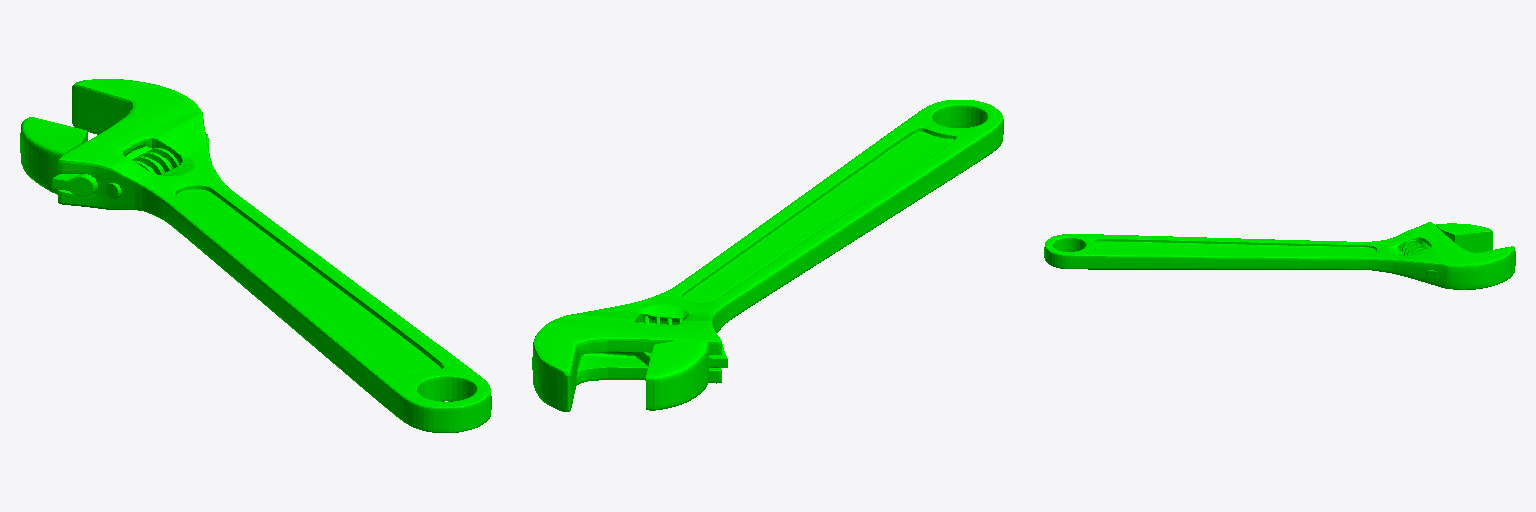
The robot description file, URDF, robot "block":

    <robot name="block">
      <link name="block_base_link">
        <inertial>
            <origin rpy="0 0 0" xyz="0 0 0"/>
            <mass value="0.1"/>
            <inertia ixx="0.1" ixy="0" ixz="0" iyy="0.1" iyz="0" izz="0.1"/>
        </inertial>
        
        <visual>
          <origin rpy="0 0 0" xyz="0 0 0"/>
          <geometry>
            <mesh filename="dataset/toolbox_cad/tn/plier/14_raw.obj" scale="1 1 1"/>
          </geometry>
            <material name="0_1_0_1">
                <color rgba="0 1 0 1"/>
            </material>
        </visual>

        
        <collision>
          <origin rpy="0 0 0" xyz="0 0 0"/>
          <geometry>
            <mesh filename="dataset/toolbox_cad/tn/plier/14_raw.obj" scale="1 1 1"/>
          </geometry>
            <material>
                <color rgba="0 1 0 1"/>
            </material>
        </collision>

      </link>
    </robot>

--- Render facts (derived) ---
Views: 3 orthographic renders of the robot side by side, from view 1: azimuth 30°, elevation 25°; view 2: azimuth 150°, elevation 25°; view 3: azimuth 270°, elevation 25°.
Robot: block — 1 links, 0 joints (none); root link block_base_link; default pose: every joint at zero.
Links seen in each view (by area): view 1: block_base_link; view 2: block_base_link; view 3: block_base_link.
Boxes of the visible links, x1,y1,x2,y2 form: block_base_link: [20, 79, 491, 432]; block_base_link: [532, 100, 1003, 411]; block_base_link: [1044, 222, 1515, 289].
Bounding box of the posed robot: 0.0419 × 0.18 × 0.0112 m (x, y, z).
1 mesh visuals loaded from 1 distinct referenced files (1 OBJ).
